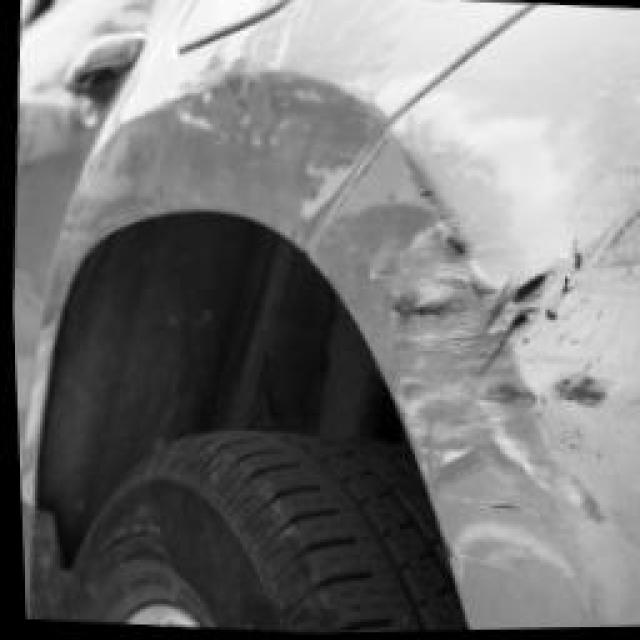Fender: (285, 62, 640, 635)
